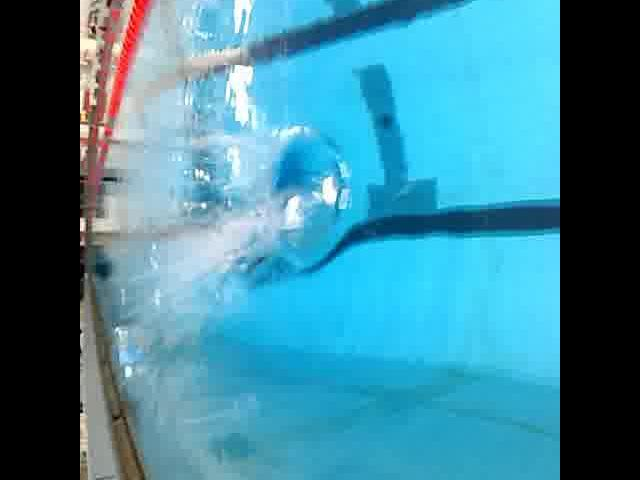Bottle: (112, 322, 140, 382)
